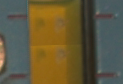border: (6, 71, 31, 81), (92, 71, 119, 80), (91, 11, 116, 20), (6, 13, 30, 21)
